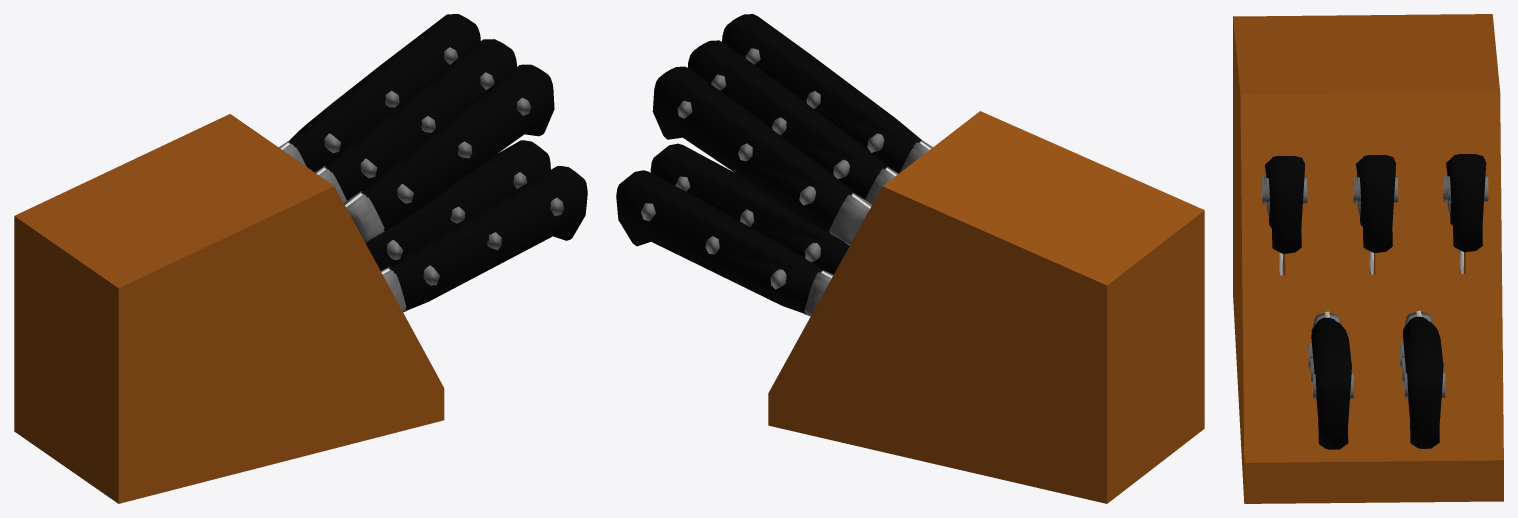
Rendered from tempat pisau.fbx.
The picture shows the model from 3 angles, left to right: view 1: azimuth 30°, elevation 25°; view 2: azimuth 150°, elevation 25°; view 3: azimuth 270°, elevation 25°; orthographic projection. The views are drawn at different scales.
Visible parts, largest first — view 1: tempat pisau, pisau.003, pisau.004, pisau.002, pisau.001, pisau; view 2: tempat pisau, pisau.001, pisau, pisau.002, pisau.003, pisau.004; view 3: tempat pisau, pisau.004, pisau, pisau.001, pisau.002, pisau.003.
Boxes of the visible parts, x1=… form: tempat pisau: x1=14, y1=114, x2=444, y2=503; pisau.003: x1=344, y1=64, x2=554, y2=242; pisau.004: x1=381, y1=166, x2=587, y2=312; pisau.002: x1=315, y1=39, x2=516, y2=202; pisau.001: x1=279, y1=14, x2=480, y2=172; pisau: x1=365, y1=140, x2=550, y2=270; tempat pisau: x1=768, y1=111, x2=1204, y2=503; pisau.001: x1=652, y1=66, x2=871, y2=245; pisau: x1=616, y1=170, x2=833, y2=316; pisau.002: x1=688, y1=40, x2=898, y2=204; pisau.003: x1=722, y1=14, x2=932, y2=173; pisau.004: x1=650, y1=143, x2=849, y2=274; tempat pisau: x1=1233, y1=14, x2=1503, y2=503; pisau.004: x1=1308, y1=311, x2=1353, y2=449; pisau: x1=1400, y1=310, x2=1445, y2=448; pisau.001: x1=1443, y1=154, x2=1488, y2=273; pisau.002: x1=1353, y1=155, x2=1398, y2=274; pisau.003: x1=1262, y1=156, x2=1307, y2=275.
Bounding box in the file's own units: 229 × 137 × 81.7.
